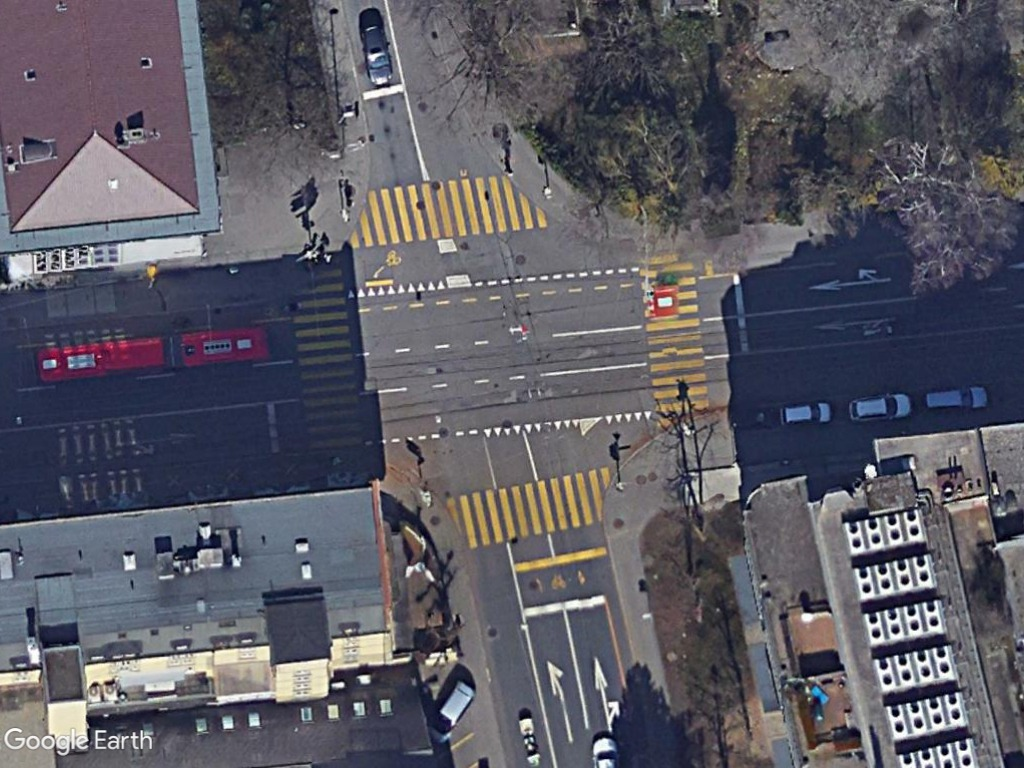bus: (35, 332, 169, 386), (174, 324, 272, 368)
car: (919, 384, 991, 415), (845, 390, 912, 423), (361, 23, 395, 88), (775, 399, 835, 430)
